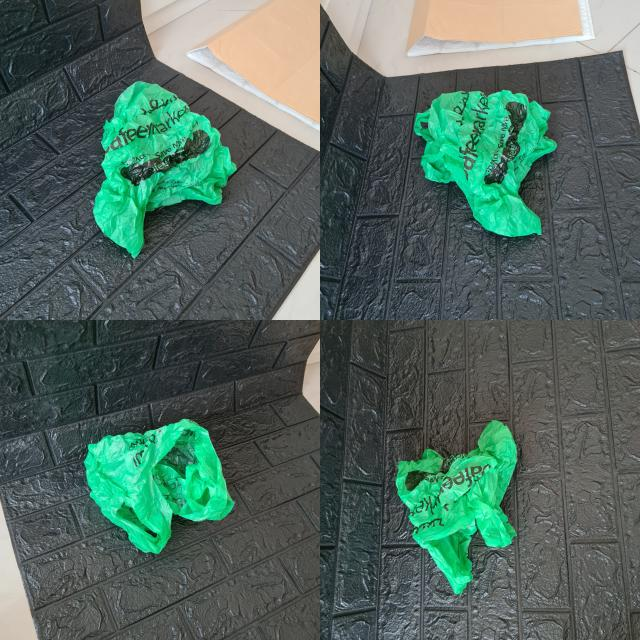Single-layer Plastic: (92, 81, 236, 258), (396, 421, 516, 594), (414, 90, 556, 236), (84, 419, 234, 554)
